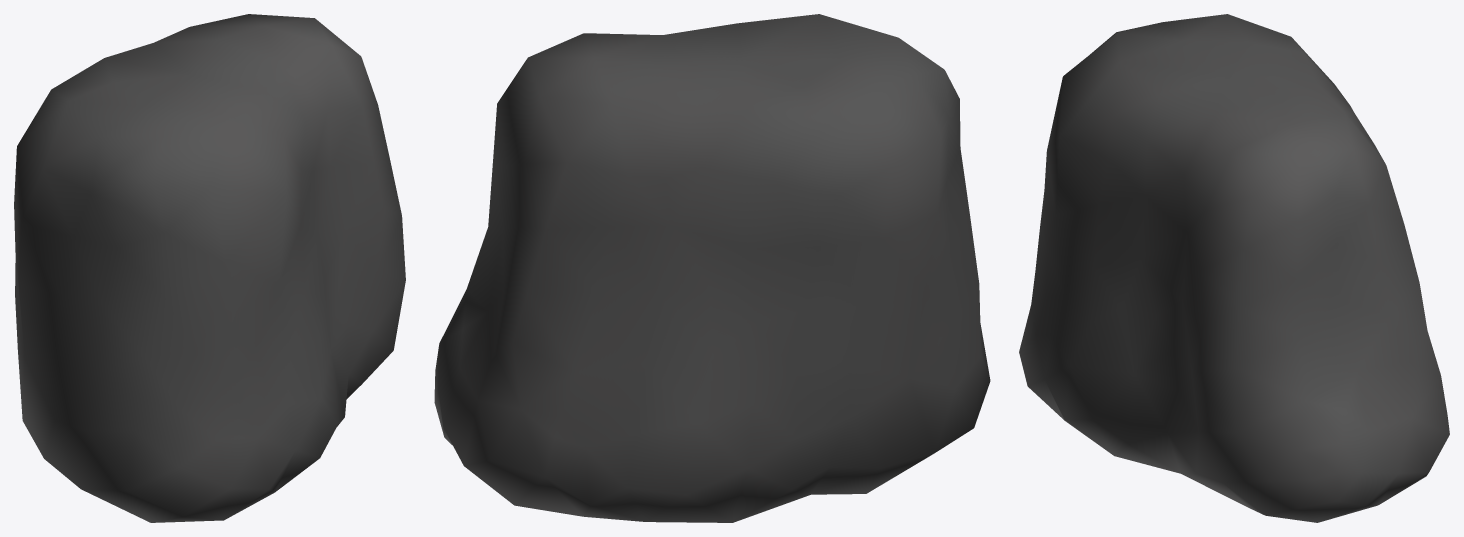
File: Rocks1.fbx
3 views of the same model, side by side, from view 1: azimuth 30°, elevation 25°; view 2: azimuth 150°, elevation 25°; view 3: azimuth 270°, elevation 25° (orthographic). The views are drawn at different scales.
Parts seen in each view (by area): view 1: AR01; view 2: AR01; view 3: AR01.
Part boxes in pixels (x1,y1,x2,y2): AR01: (14,14,405,522); AR01: (434,14,990,522); AR01: (1019,14,1449,522).
Size of the model in its own units: 103 by 91.76 by 97.48.
